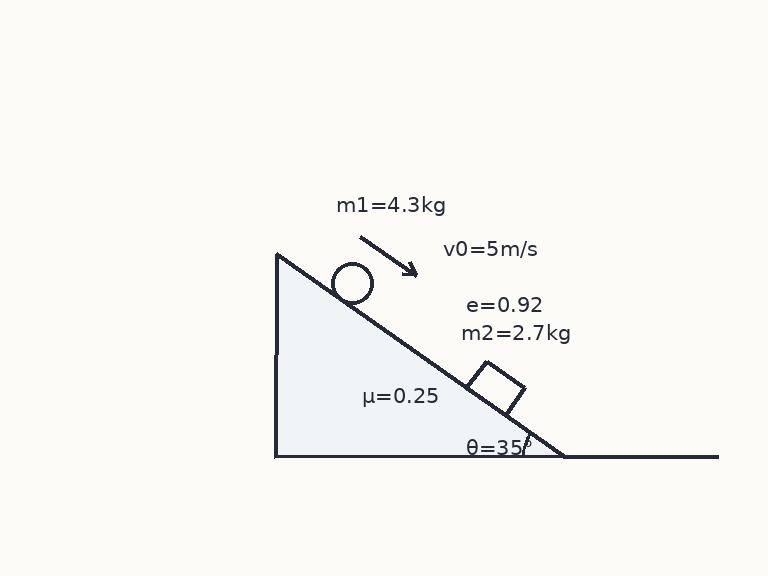ball: (329, 260, 375, 306)
block: (465, 359, 526, 417)
ramp: (273, 252, 565, 458)
